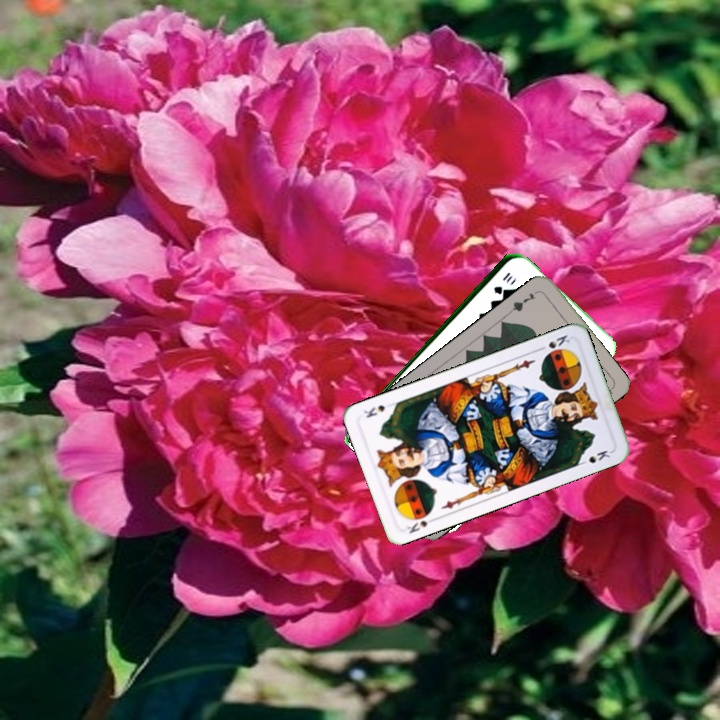G10: (490, 268, 515, 296)
G7: (506, 287, 541, 315)
SK: (534, 331, 572, 353), (403, 513, 439, 536)
